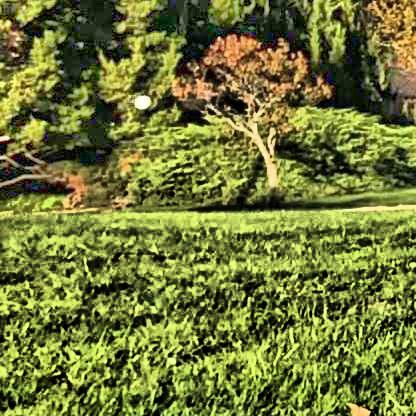golfball: (131, 91, 148, 106)
